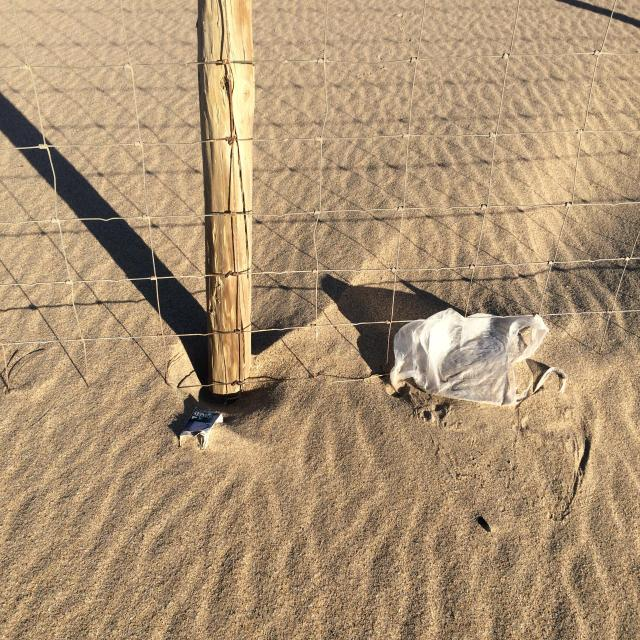Other carton: (179, 408, 223, 452)
Single-use carrier bag: (390, 308, 566, 406)
